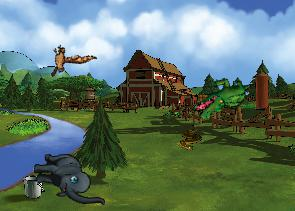crocodile: (190, 63, 255, 132)
eagle: (38, 31, 97, 88)
elephant: (32, 150, 105, 210)
